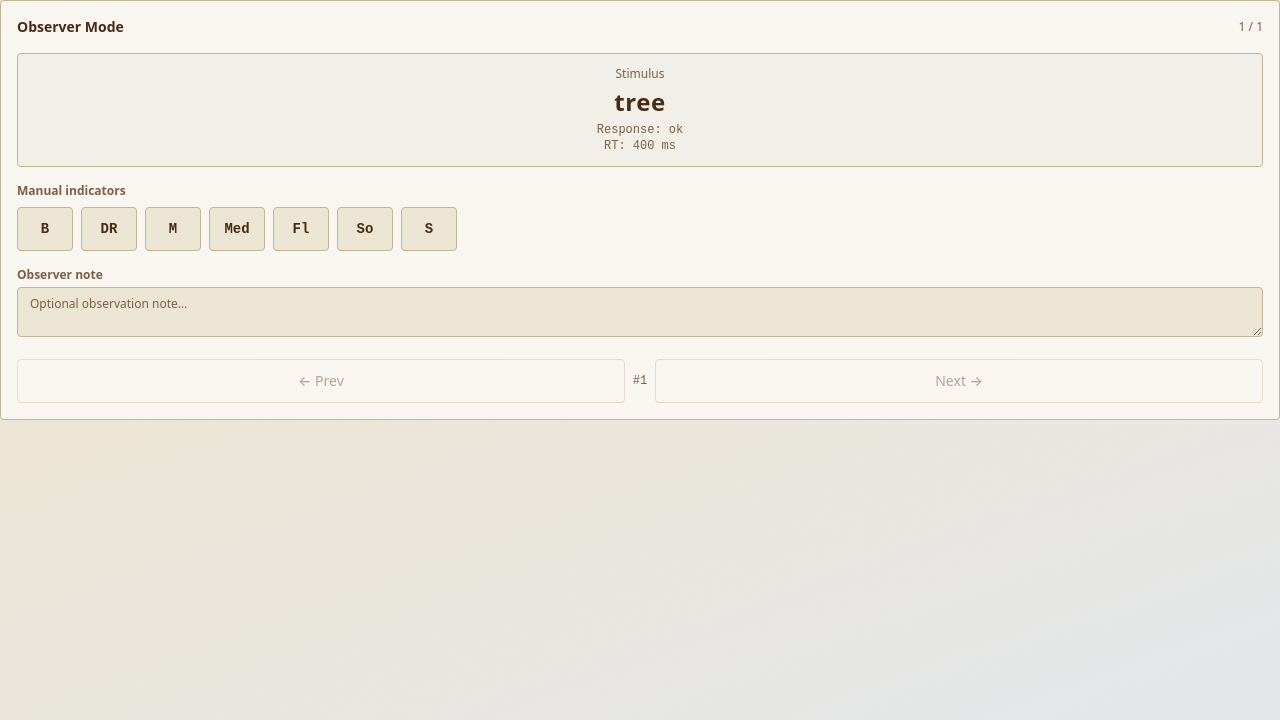
Test: ObserverMode (0285) › manual tag badge shows tagged indicator name
The width and height of the screenshot is (1280, 720).
Click the button with test id "observer-tag-M": [173, 229] box [145,207,201,251]
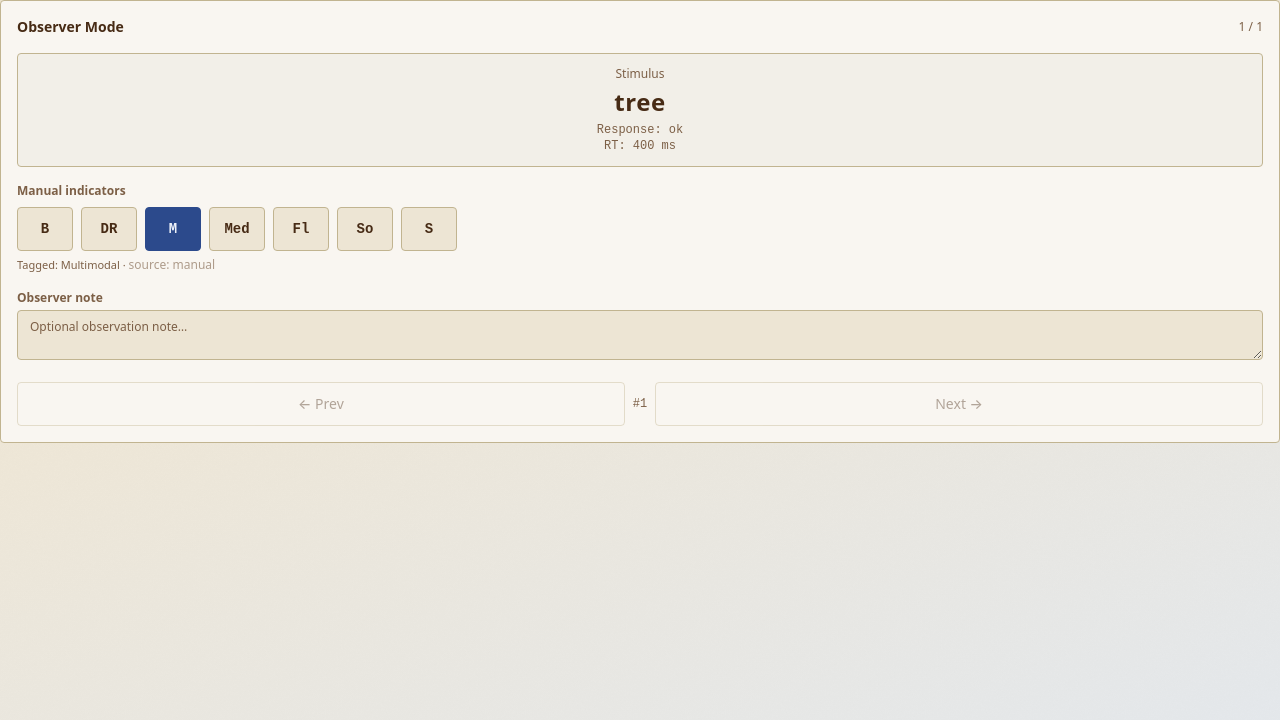
Expected: the text "Tagged: Multimodal · source: manual" is shown, [17,256,215,273]
